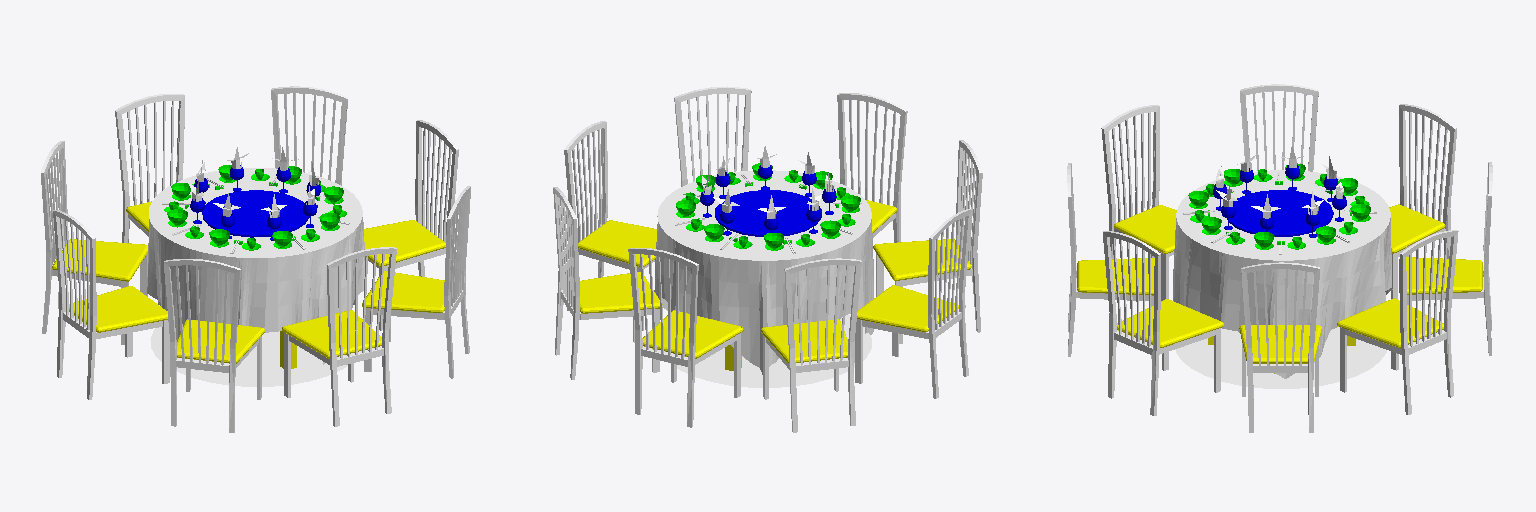
File: YellowDesk.obj
3 views of the same model, side by side, from view 1: azimuth 30°, elevation 25°; view 2: azimuth 150°, elevation 25°; view 3: azimuth 270°, elevation 25° (orthographic).
Visible parts, largest first — view 1: PLINE, CIRCLE; view 2: PLINE, CIRCLE; view 3: PLINE, CIRCLE.
Part boxes in pixels (bbox=[...]): PLINE: bbox=[41, 86, 470, 432]; CIRCLE: bbox=[150, 179, 347, 386]; PLINE: bbox=[553, 86, 982, 432]; CIRCLE: bbox=[670, 178, 871, 387]; PLINE: bbox=[1067, 84, 1492, 432]; CIRCLE: bbox=[1175, 178, 1386, 388].
Size of the model in its own units: 2362 by 1064 by 2362.